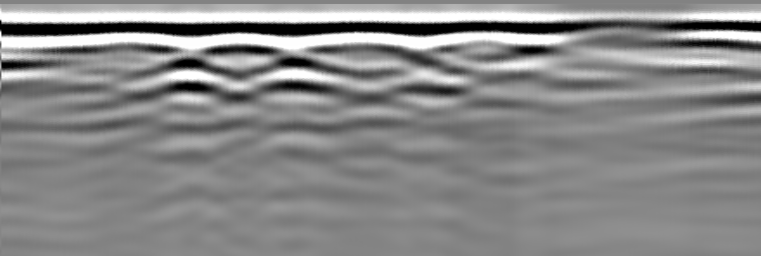pipe: (567, 18, 669, 43)
steel: (254, 51, 344, 74), (145, 51, 223, 77)
